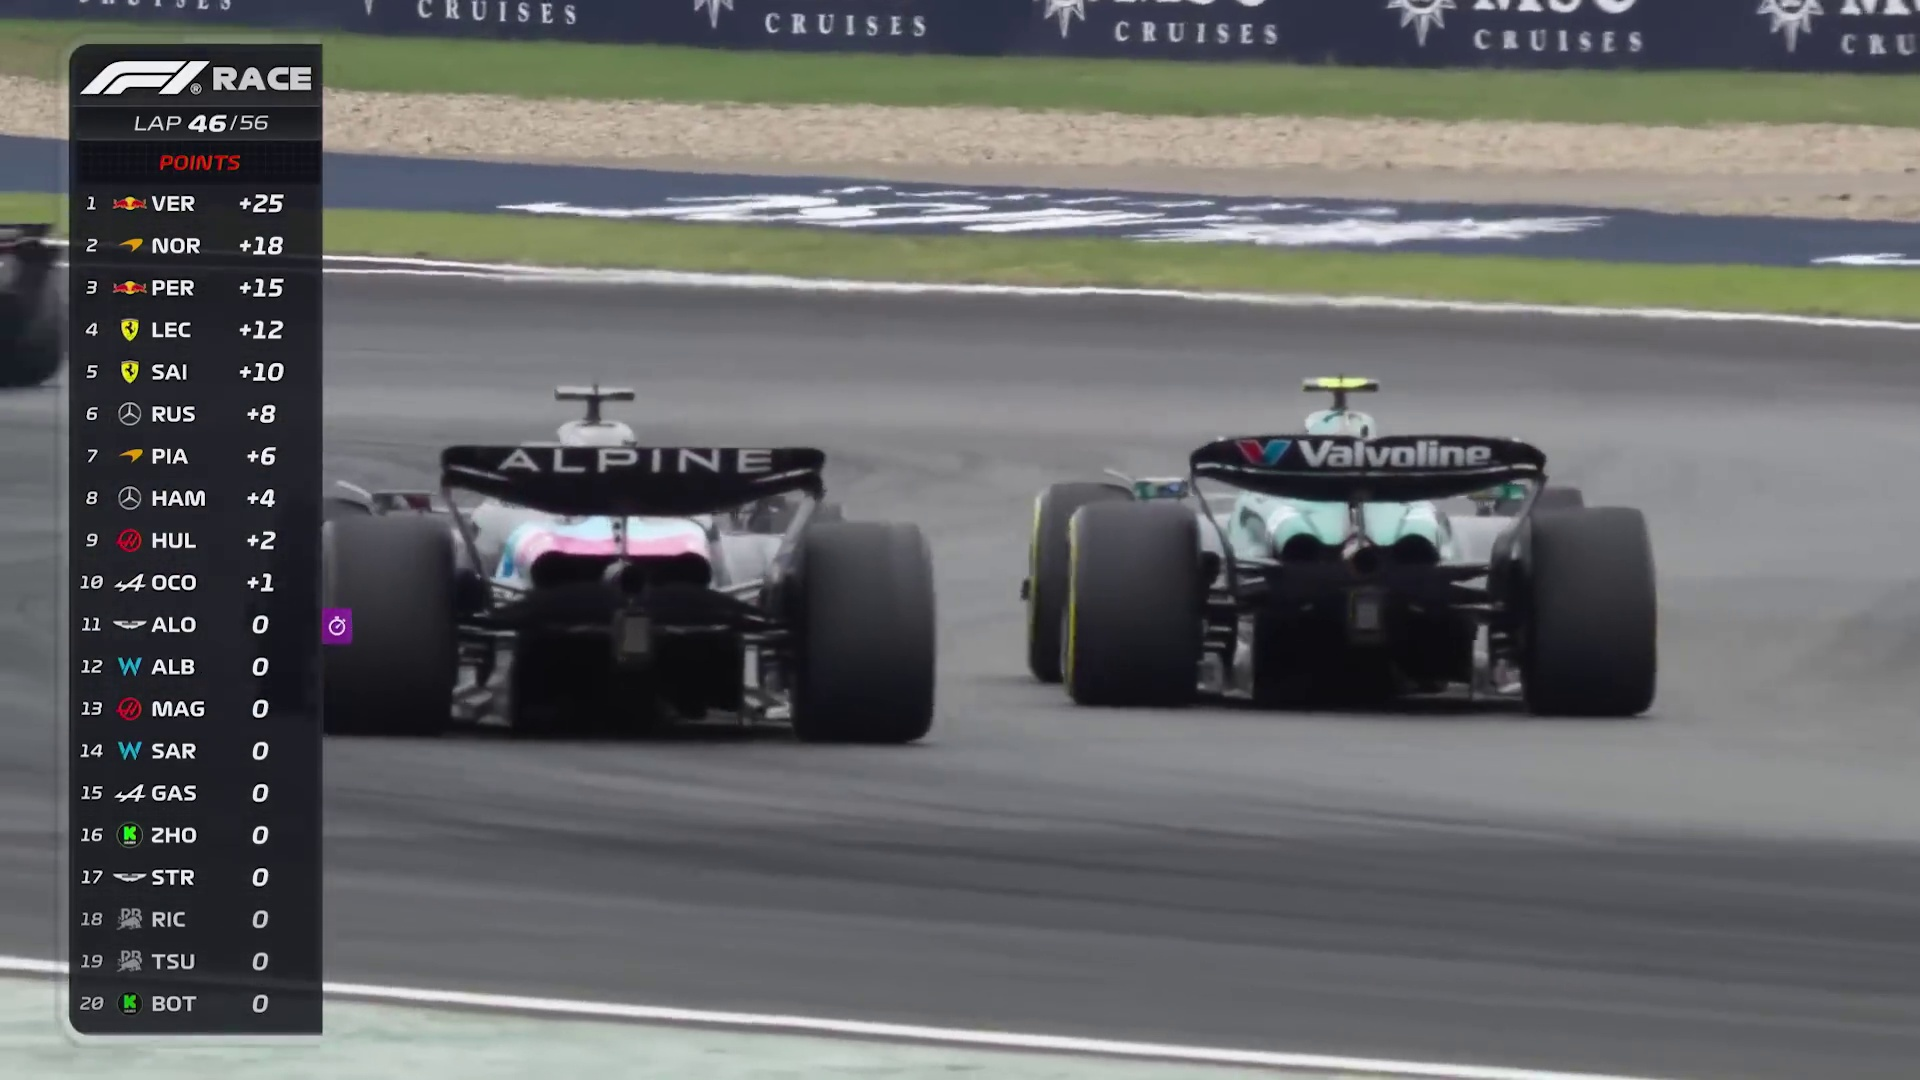Alpine: (320, 436, 936, 732)
AstonMartin: (1029, 413, 1659, 716)
